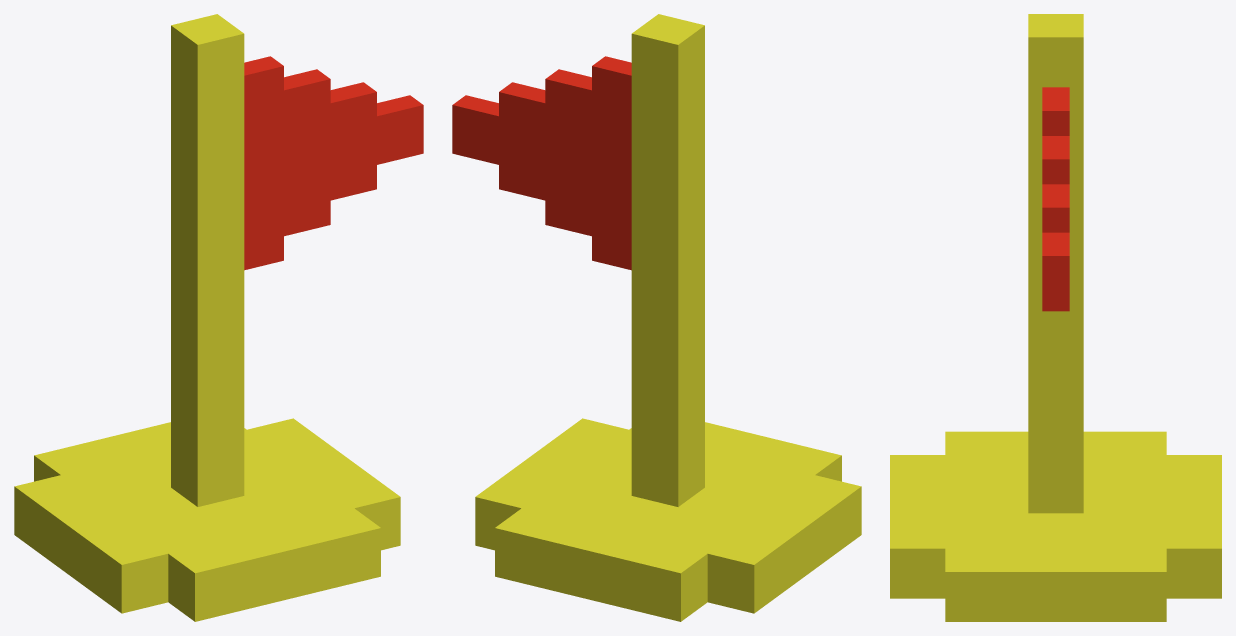
File: flag.glb
3 views of the same model, side by side, from view 1: azimuth 30°, elevation 25°; view 2: azimuth 150°, elevation 25°; view 3: azimuth 270°, elevation 25° (orthographic). The views are drawn at different scales.
Parts seen in each view (by area): view 1: Cube_0, Cube.001_1; view 2: Cube_0, Cube.001_1; view 3: Cube_0, Cube.001_1.
Boxes of the visible parts, left/top/right/bottom form: Cube_0: left=14, top=14, right=400, bottom=621; Cube.001_1: left=244, top=56, right=423, bottom=270; Cube_0: left=475, top=14, right=861, bottom=621; Cube.001_1: left=452, top=56, right=631, bottom=270; Cube_0: left=890, top=14, right=1221, bottom=621; Cube.001_1: left=1042, top=87, right=1069, bottom=311.
Size of the model in its own units: 0.75 by 1.05 by 0.6.
